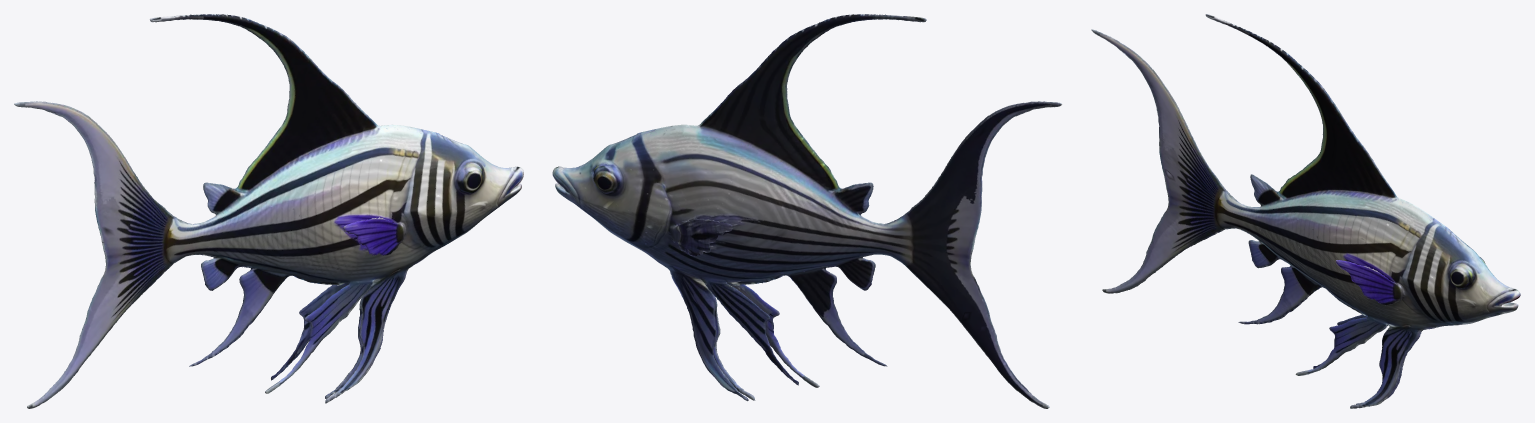
File: Banggai_Cardinalfish_texture.glb
3 renders of one model, left to right at view 1: azimuth 30°, elevation 25°; view 2: azimuth 150°, elevation 25°; view 3: azimuth 330°, elevation 25°, orthographic. The views are drawn at different scales.
Size of the model in its own units: 2 by 1.6 by 0.2708.
1 material, 1 textured.
